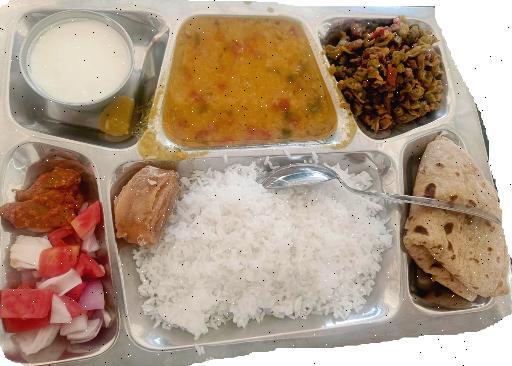Curd: (16, 10, 140, 110)
Dal: (170, 20, 330, 144)
Pickle: (0, 143, 86, 224)
Rice: (130, 171, 392, 336)
Roti: (406, 142, 512, 296)
Salad: (0, 244, 111, 357)
Sweet: (111, 162, 184, 248)
Vegetable: (330, 18, 445, 124)
